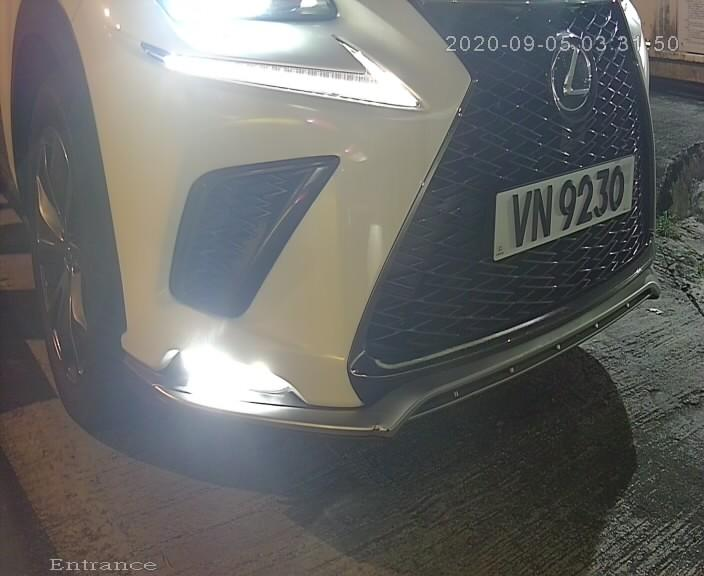License Plate: (488, 145, 642, 276)
